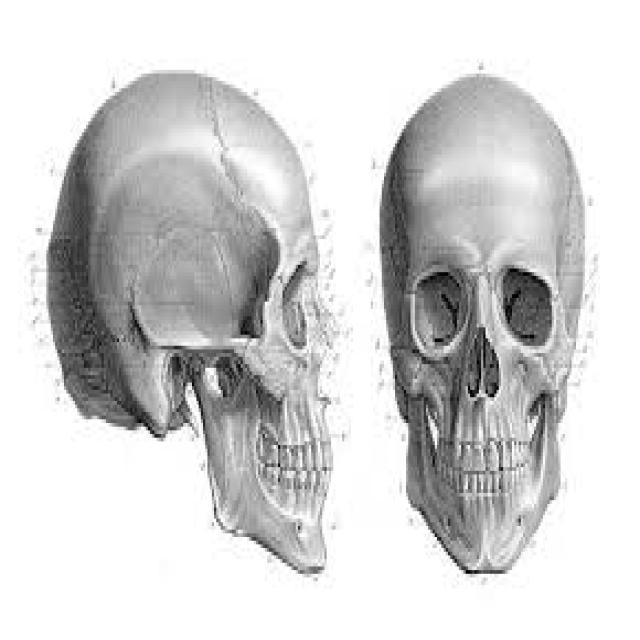skull: (371, 61, 602, 601)
